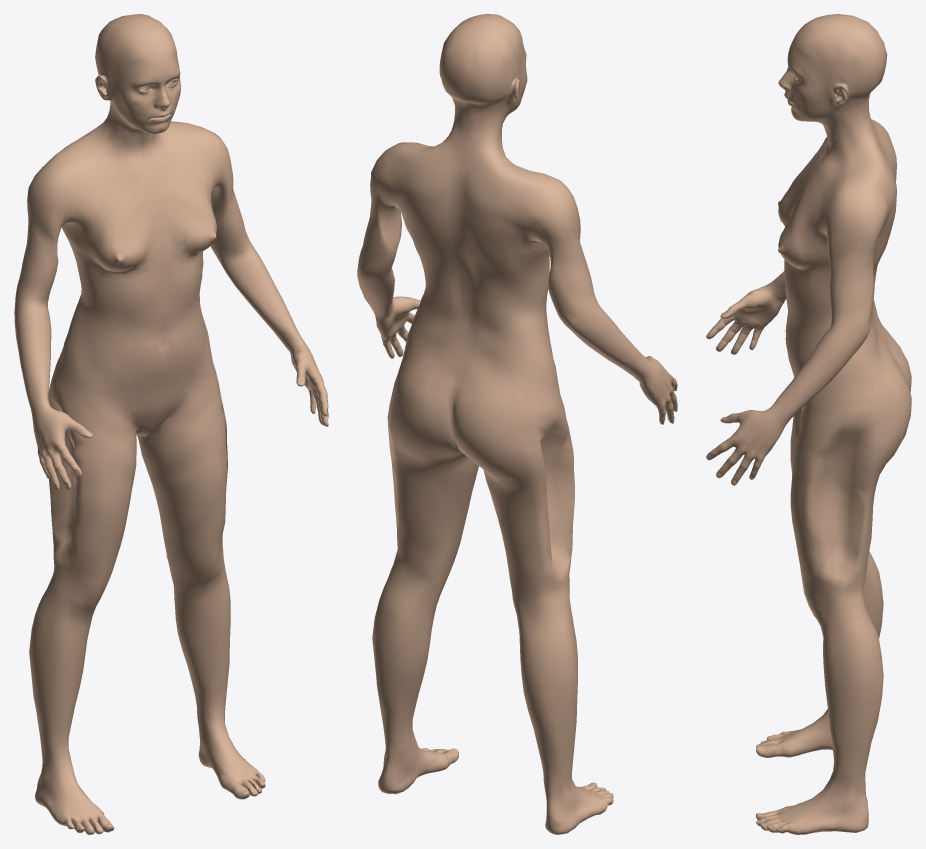
File: atelier-body.glb
The picture shows the model from 3 angles, left to right: view 1: azimuth 30°, elevation 25°; view 2: azimuth 150°, elevation 25°; view 3: azimuth 270°, elevation 25°; orthographic projection. The views are drawn at different scales.
Parts seen in each view (by area): view 1: Atelier anatomical mannequin; view 2: Atelier anatomical mannequin; view 3: Atelier anatomical mannequin.
Boxes of the visible parts, bbox=[...] form: Atelier anatomical mannequin: bbox=[14, 14, 328, 834]; Atelier anatomical mannequin: bbox=[357, 14, 677, 834]; Atelier anatomical mannequin: bbox=[706, 14, 911, 834].
Bounding box in the file's own units: 0.7414 × 1.95 × 0.4708.
